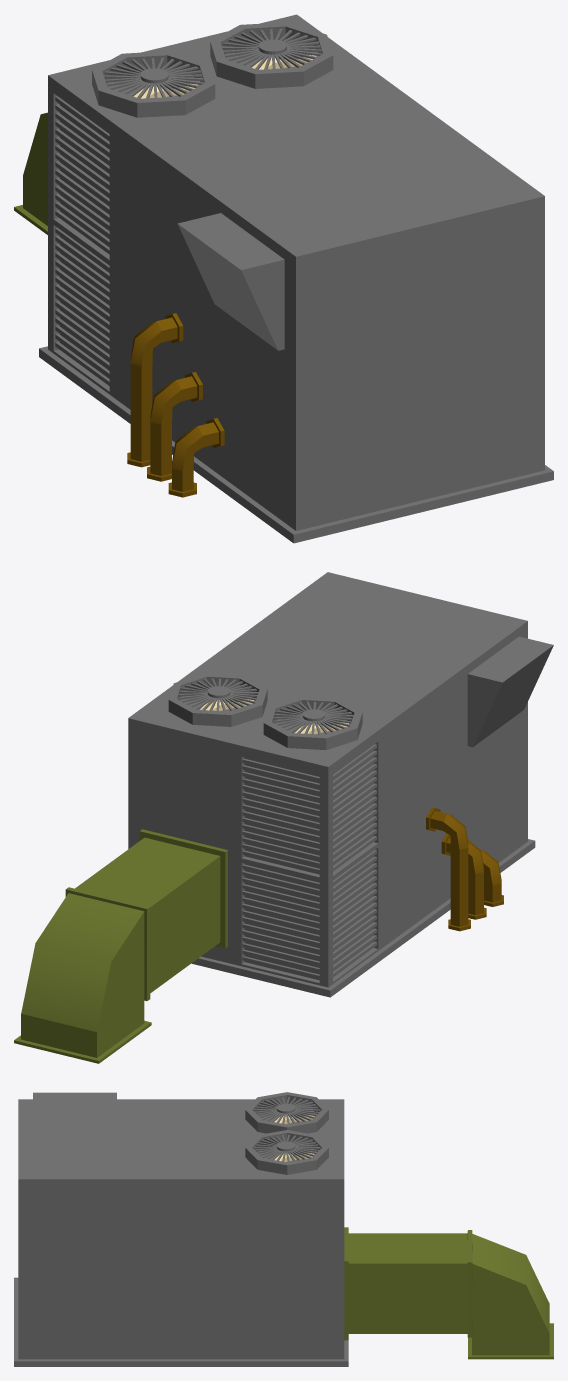
File: BigAirAconditioner.fbx
3 renders of one model, top to bottom at view 1: azimuth 30°, elevation 25°; view 2: azimuth 150°, elevation 25°; view 3: azimuth 270°, elevation 25°, orthographic. The views are drawn at different scales.
Visible parts, largest first — view 1: AireAcondicionado; view 2: AireAcondicionado; view 3: AireAcondicionado.
Part boxes in pixels (bbox=[...]): AireAcondicionado: bbox=[14, 14, 553, 543]; AireAcondicionado: bbox=[14, 572, 553, 1063]; AireAcondicionado: bbox=[14, 1092, 553, 1366].
Bounding box in the file's own units: 4.29 × 4.07 × 10.07.
